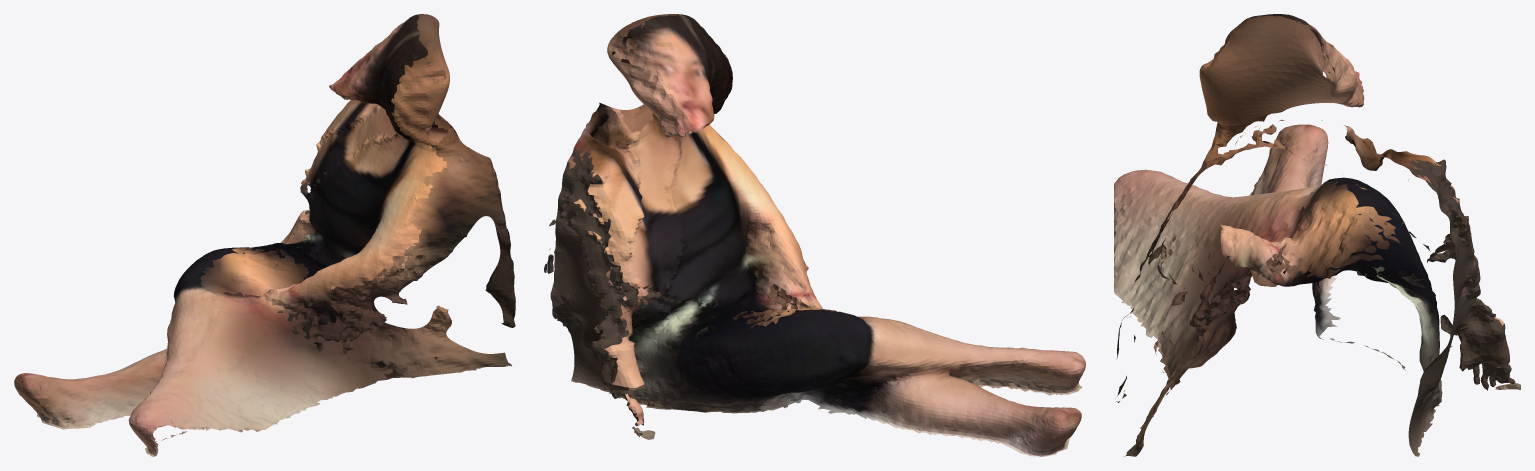
3 views of the same model, side by side, from view 1: azimuth 30°, elevation 25°; view 2: azimuth 150°, elevation 25°; view 3: azimuth 270°, elevation 25° (orthographic). The views are drawn at different scales.
Bounding box in the file's own units: 1.06 × 0.736 × 0.6502.
1 material, 1 textured.
